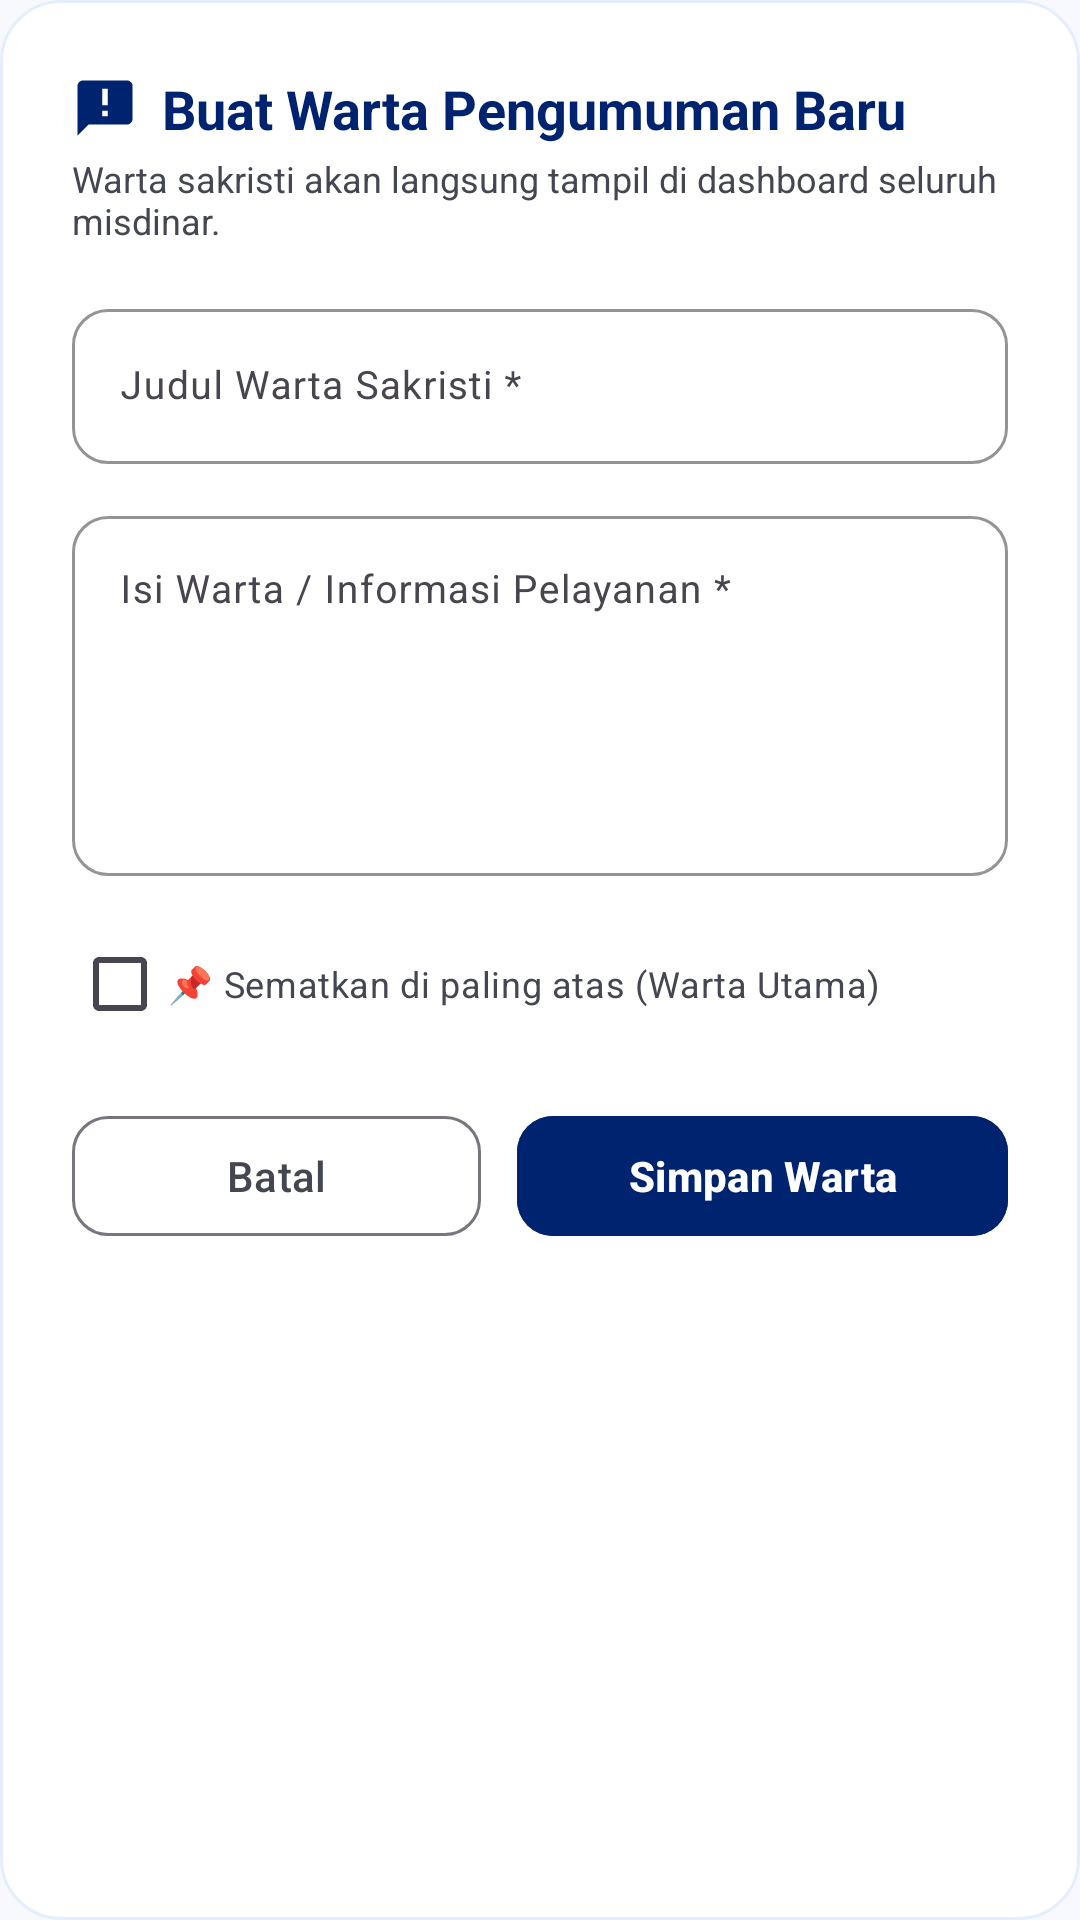

Icon bounding boxes for this 1080px x 1920px phone screenshot, format [x1=x1, y1=y1, x2=x2, y2=y2]:
announcement: [x1=77, y1=80, x2=133, y2=136]
